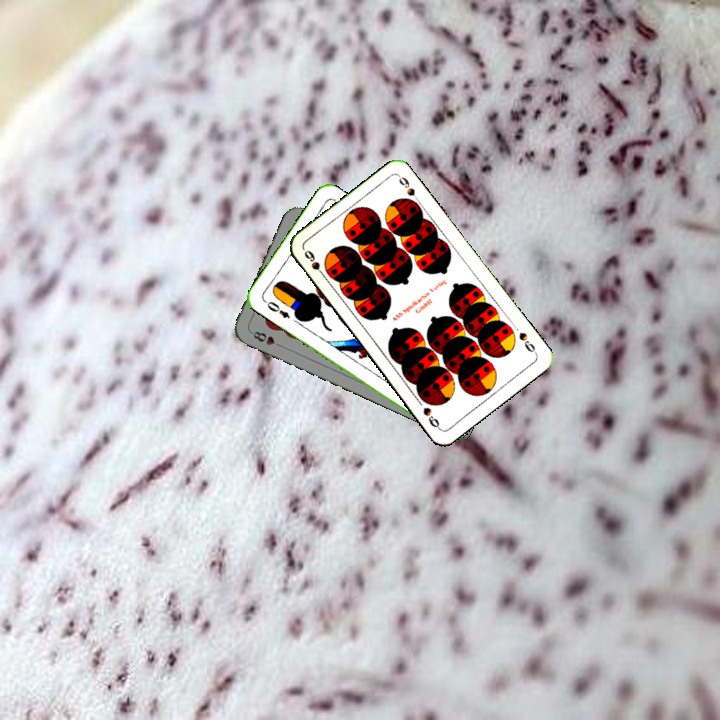EO: (263, 297, 293, 321)
H8: (247, 327, 285, 350)
S9: (300, 246, 329, 281), (515, 328, 540, 357)
